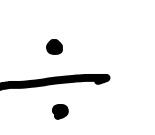div: (0, 39, 111, 120)
